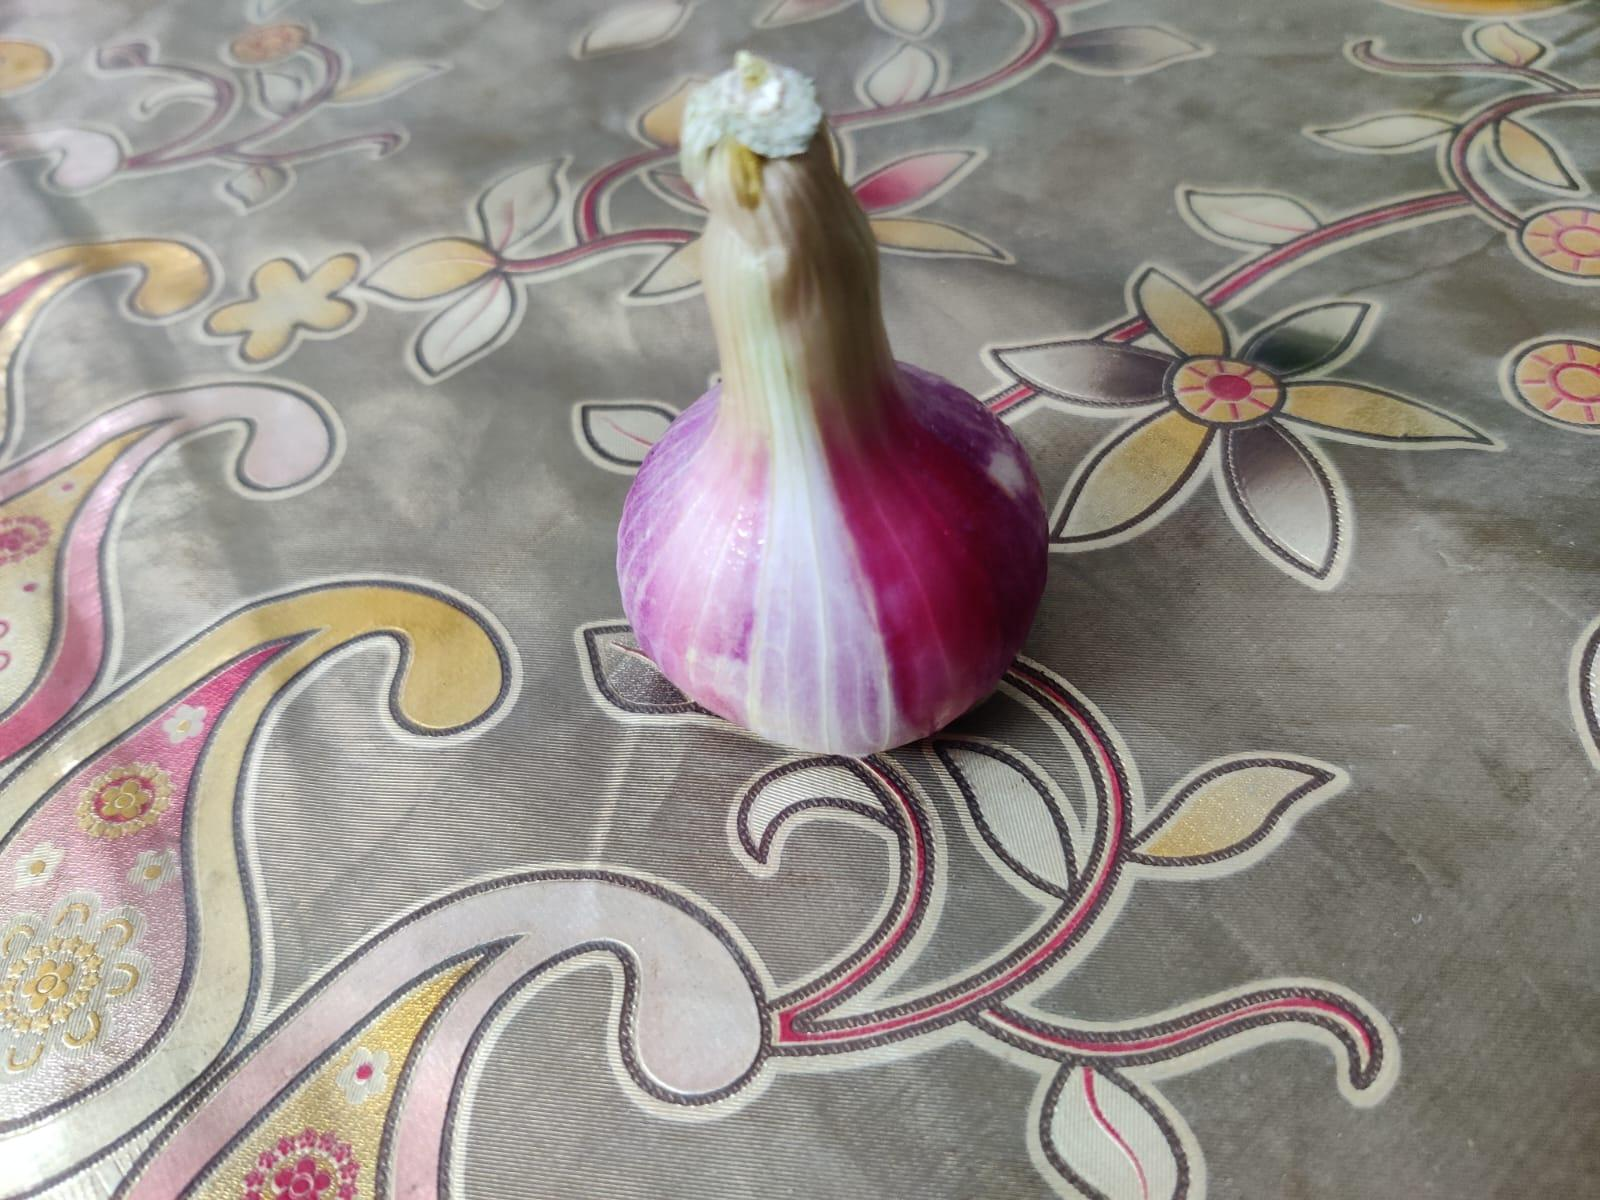non-mango: (620, 52, 1049, 768)
